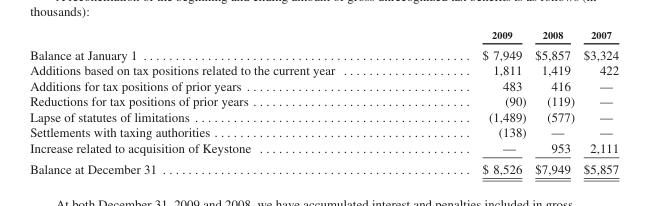table: (29, 28, 618, 175)
table column: (29, 28, 407, 175), (407, 28, 529, 175), (529, 28, 578, 175), (578, 28, 618, 175)
table column header: (29, 28, 618, 43)
table row: (29, 43, 618, 62), (29, 139, 618, 157), (29, 157, 618, 175), (29, 77, 618, 93), (29, 108, 618, 124), (29, 28, 618, 43), (29, 62, 618, 77), (29, 93, 618, 108), (29, 124, 618, 139)
